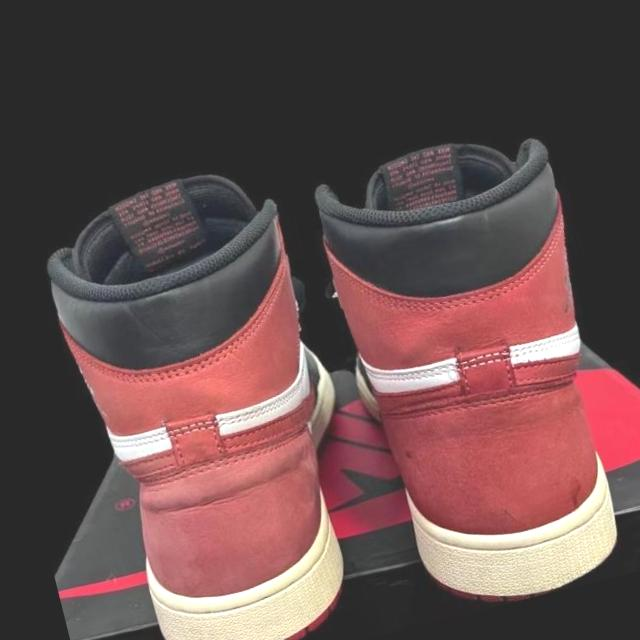nike_original_jordan: (22, 125, 400, 640), (295, 93, 640, 626)
